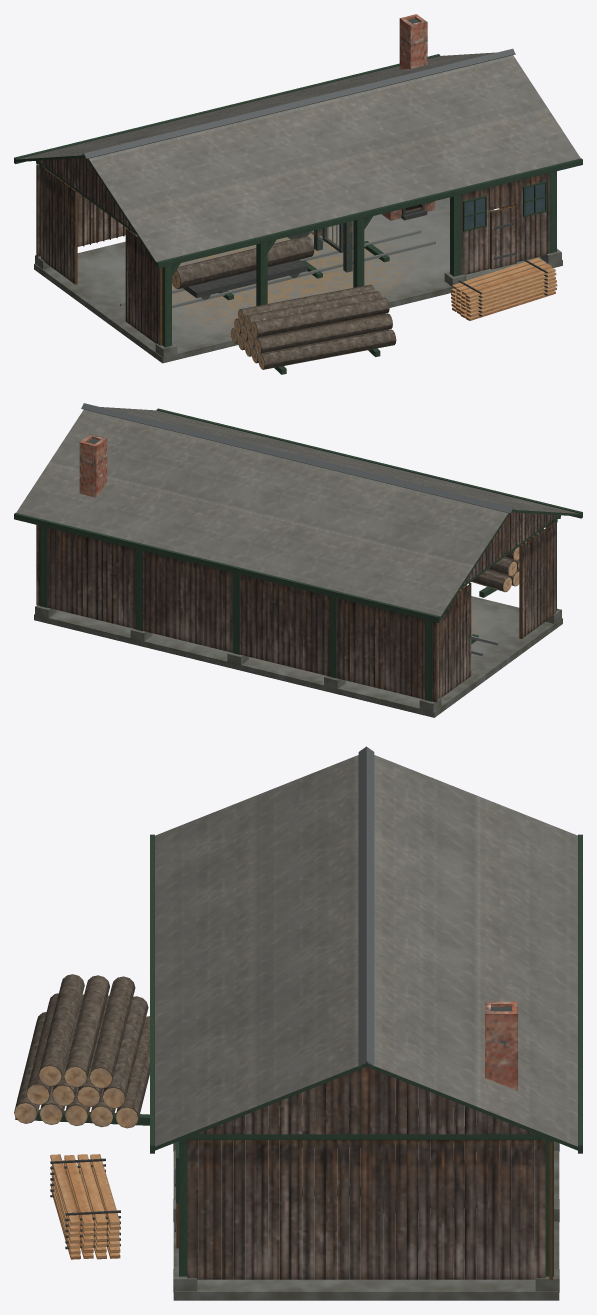
The model's file is sawmill_merged.gltf.
The picture shows the model from 3 angles, top to bottom: view 1: azimuth 30°, elevation 25°; view 2: azimuth 150°, elevation 25°; view 3: azimuth 270°, elevation 25°; orthographic projection. The views are drawn at different scales.
Parts seen in each view (by area): view 1: Sawmill_Building, Sawmill_Log_Pile, Sawmill_Plank_Pile; view 2: Sawmill_Building, Sawmill_Log_Pile; view 3: Sawmill_Building, Sawmill_Log_Pile, Sawmill_Plank_Pile.
Boxes of the visible parts, x1,y1,x2,y2 form: Sawmill_Building: (14, 14, 582, 363); Sawmill_Log_Pile: (230, 284, 396, 374); Sawmill_Plank_Pile: (451, 258, 557, 320); Sawmill_Building: (14, 403, 582, 717); Sawmill_Log_Pile: (471, 533, 538, 597); Sawmill_Building: (150, 746, 582, 1300); Sawmill_Log_Pile: (14, 974, 149, 1128); Sawmill_Plank_Pile: (50, 1154, 120, 1259).
Size of the model in its own units: 14.54 by 5.68 by 11.12.
Materials: 2 (2 with a texture image).
